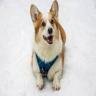dog: (30, 0, 66, 91)
